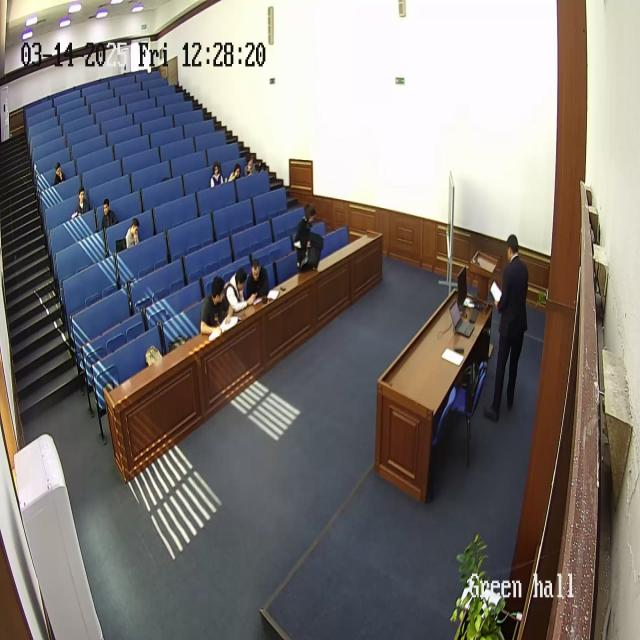person: (488, 233, 530, 419), (200, 276, 236, 337), (295, 204, 325, 271), (224, 268, 254, 314), (244, 256, 270, 303), (101, 197, 119, 233), (73, 186, 91, 218), (124, 217, 140, 249), (208, 160, 224, 188), (53, 162, 67, 186), (244, 155, 258, 177), (227, 163, 241, 184)
